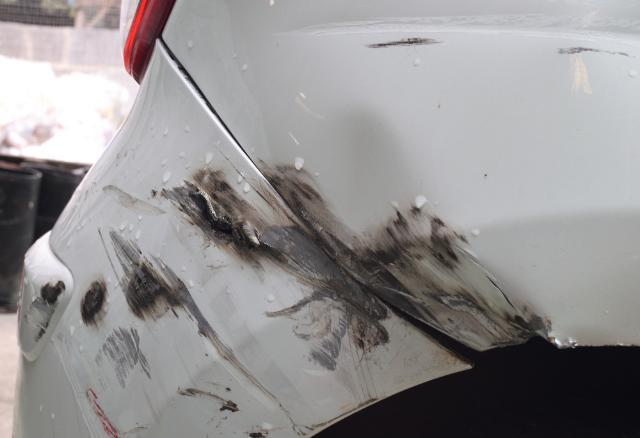dent: (322, 115, 413, 237)
scratch: (76, 165, 454, 438), (254, 162, 561, 350), (287, 16, 640, 63), (22, 277, 64, 347)
